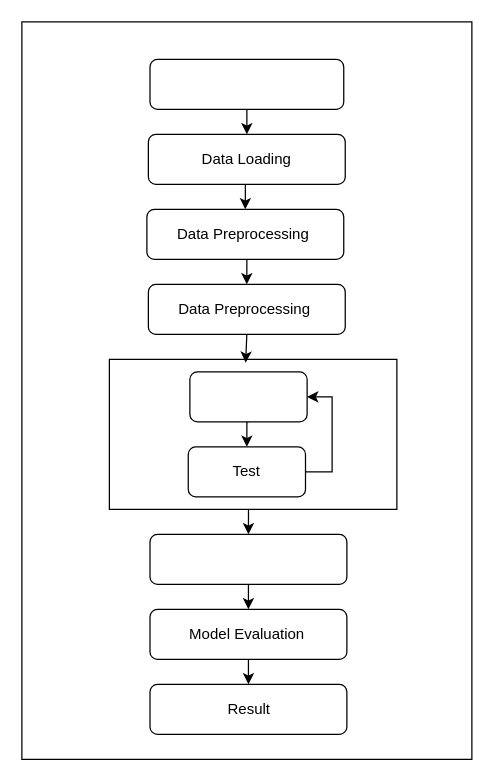
Some shapes in this 494 by 781 pixel diagram are drawn without their labels. Here are the shapes that lost their labels. From the top down, the centre of each, then its label:
point (246, 83): Dataset Selection
point (248, 396): Training
point (248, 558): Model Training
